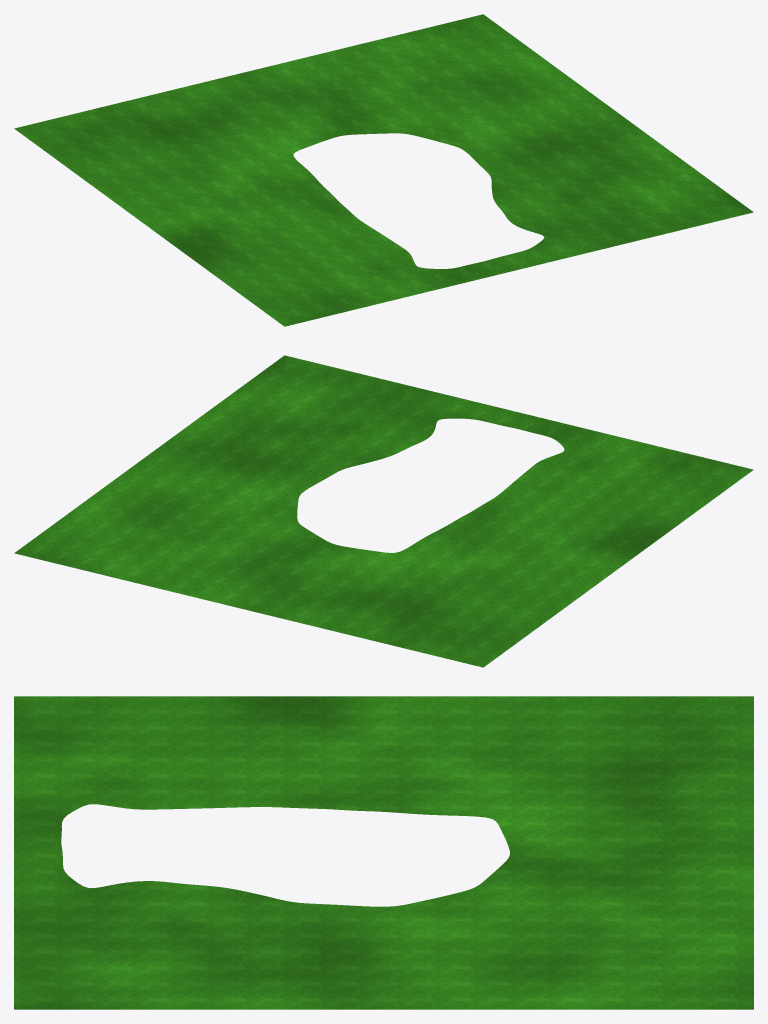
File: grass-map.glb
3 views of the same model, one above another, from view 1: azimuth 30°, elevation 25°; view 2: azimuth 150°, elevation 25°; view 3: azimuth 270°, elevation 25° (orthographic). The views are drawn at different scales.
Visible parts, largest first — view 1: plane; view 2: plane; view 3: plane.
Part boxes in pixels (x1,y1,x2,y2): plane: [14, 14, 753, 326]; plane: [14, 355, 753, 667]; plane: [14, 696, 753, 1009].
Bounding box in the file's own units: 118 × 0.0653 × 117.
1 material, 1 textured.
